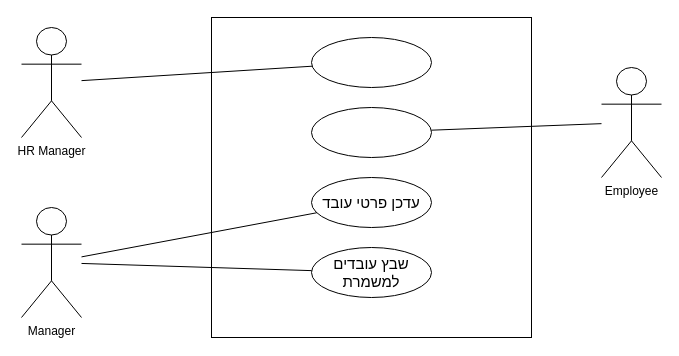
The diagram is 679 pixels wide and 356 high, and some of its shapes have lost their labels. The centre of each missing label's shape, as x and y in pixels:
"הוסף עובד חדש" belongs at (371,62).
"הזן אילוצי משמרות" belongs at (371,132).
